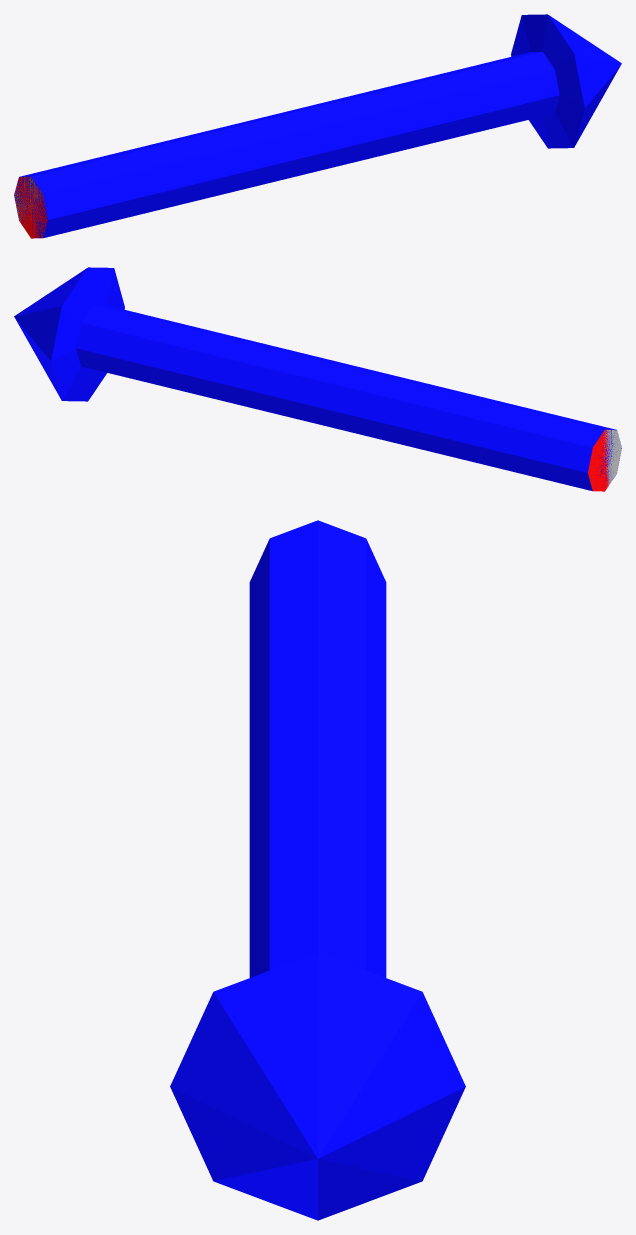
File: Axes3DX.gltf
3 views of the same model, one above another, from view 1: azimuth 30°, elevation 25°; view 2: azimuth 150°, elevation 25°; view 3: azimuth 270°, elevation 25° (orthographic). The views are drawn at different scales.
Parts seen in each view (by area): view 1: Axes; view 2: Axes; view 3: Axes.
Boxes of the visible parts, x1,y1,x2,y2 form: Axes: (14, 14, 621, 238); Axes: (14, 267, 621, 491); Axes: (170, 520, 465, 1220).
Bounding box in the file's own units: 1 × 0.2168 × 0.2168.
